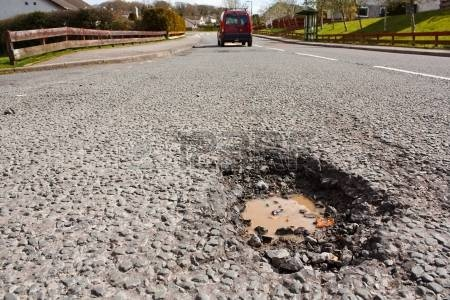pothole: (208, 142, 392, 276)
